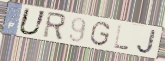9: (68, 17, 87, 44)
G: (89, 21, 112, 48)
J: (135, 28, 158, 55)
L: (113, 24, 131, 51)
R: (41, 11, 67, 42)
U: (17, 7, 48, 37)
